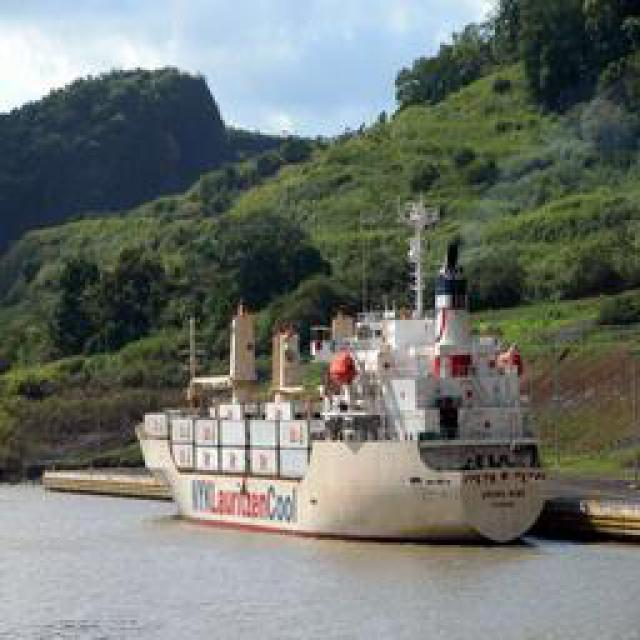Ship: (136, 233, 546, 551)
